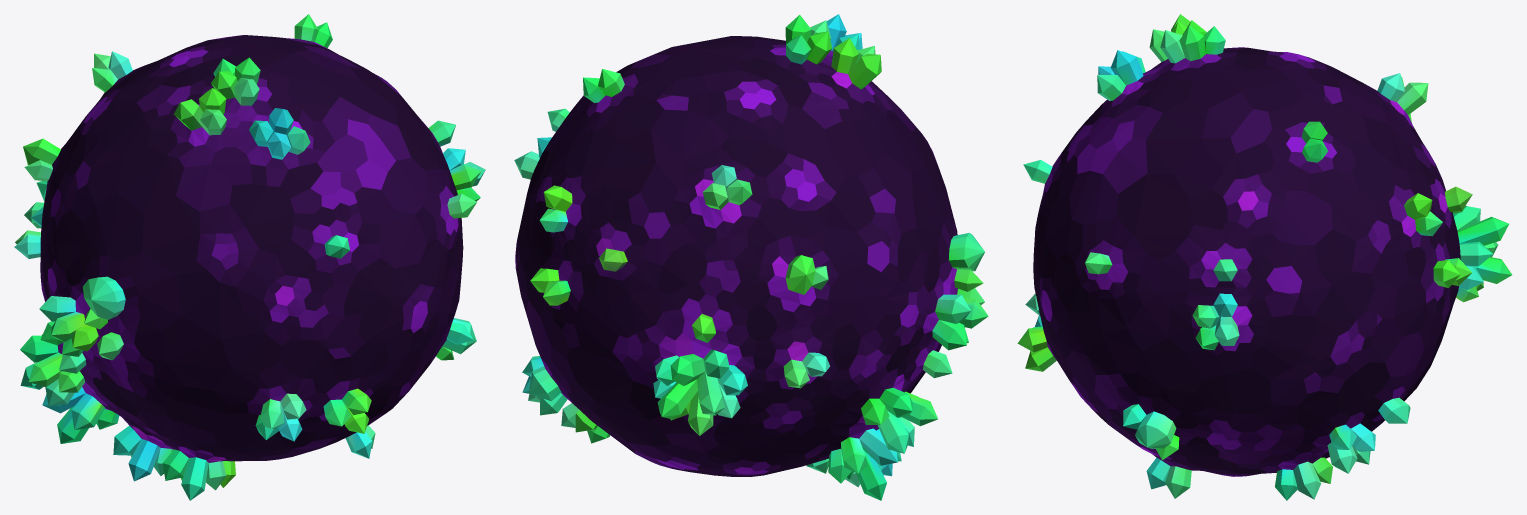
Rendered from Crystal_planet_11.fbx.
3 renders of one model, left to right at view 1: azimuth 30°, elevation 25°; view 2: azimuth 150°, elevation 25°; view 3: azimuth 270°, elevation 25°, orthographic. The views are drawn at different scales.
Visible parts, largest first — view 1: file6; view 2: file6; view 3: file6.
Part boxes in pixels (<box>): file6: <box>14,14,485,500</box>; file6: <box>514,14,988,500</box>; file6: <box>1017,14,1512,500</box>.
Size of the model in its own units: 2.42 by 2.21 by 2.32.
